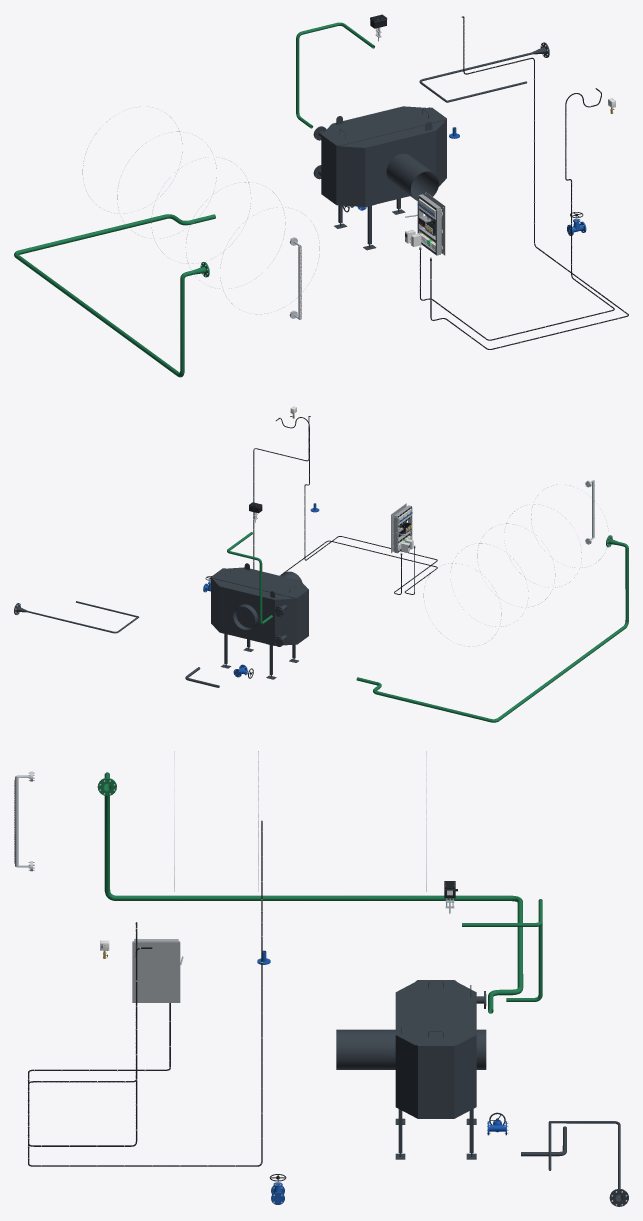
3 views of the same model, one above another, from view 1: azimuth 30°, elevation 25°; view 2: azimuth 150°, elevation 25°; view 3: azimuth 270°, elevation 25° (orthographic). The views are drawn at different scales.
Visible parts, largest first — view 1: EQS2-2000 CAD 3, EQS2-2000 CAD 0, deaerator_feed / green, EQS2-2000 CAD 1, cabinet_interior / cabinet_interior_0.npz, flue_spacer / dark, gpz_drive_cable / black, wiring_pressure_switch_3 / black, deaerator_details / steel, from_economizer / green, tds_to_fv / dark; view 2: EQS2-2000 CAD 0, EQS2-2000 CAD 3, deaerator_feed / green, EQS2-2000 CAD 2, cabinet_interior / cabinet_interior_0.npz, gpz_drive_cable / black, wiring_pressure_switch_3 / black, deaerator_details / steel, from_economizer / green; view 3: EQS2-2000 CAD 3, deaerator_feed / green, cabinet_interior / cabinet_interior_0.npz, flue_spacer / dark, EQS2-2000 CAD 0, gpz_drive_cable / black, wiring_pressure_switch_3 / black, deaerator_details / steel, from_economizer / green, tds_to_fv / dark.
Boxes of the visible parts, x1,y1,x2,y2 form: EQS2-2000 CAD 3: (321,106,446,204); EQS2-2000 CAD 0: (334,131,436,250); deaerator_feed / green: (14,214,215,377); EQS2-2000 CAD 1: (336,146,365,206); cabinet_interior / cabinet_interior_0.npz: (405,192,445,255); flue_spacer / dark: (390,156,438,200); gpz_drive_cable / black: (430,16,628,349); wiring_pressure_switch_3 / black: (420,88,614,340); deaerator_details / steel: (82,106,319,319); from_economizer / green: (296,22,374,128); tds_to_fv / dark: (419,42,549,102); EQS2-2000 CAD 0: (219,586,298,679); EQS2-2000 CAD 3: (211,563,308,644); deaerator_feed / green: (356,535,628,722); EQS2-2000 CAD 2: (273,598,297,646); cabinet_interior / cabinet_interior_0.npz: (391,503,412,553); gpz_drive_cable / black: (253,416,437,594); wiring_pressure_switch_3 / black: (276,417,437,594); deaerator_details / steel: (423,480,608,646); from_economizer / green: (227,532,272,624); EQS2-2000 CAD 3: (395,980,476,1118); deaerator_feed / green: (97,772,523,1013); cabinet_interior / cabinet_interior_0.npz: (132,939,183,1002); flue_spacer / dark: (336,1029,385,1069); EQS2-2000 CAD 0: (386,1029,486,1159); gpz_drive_cable / black: (28,820,262,1166); wiring_pressure_switch_3 / black: (28,922,170,1146); deaerator_details / steel: (15,751,426,891); from_economizer / green: (462,899,542,1001); tds_to_fv / dark: (550,1121,628,1206).
Size of the model in its own units: 8.21 by 3.6 by 6.22.
